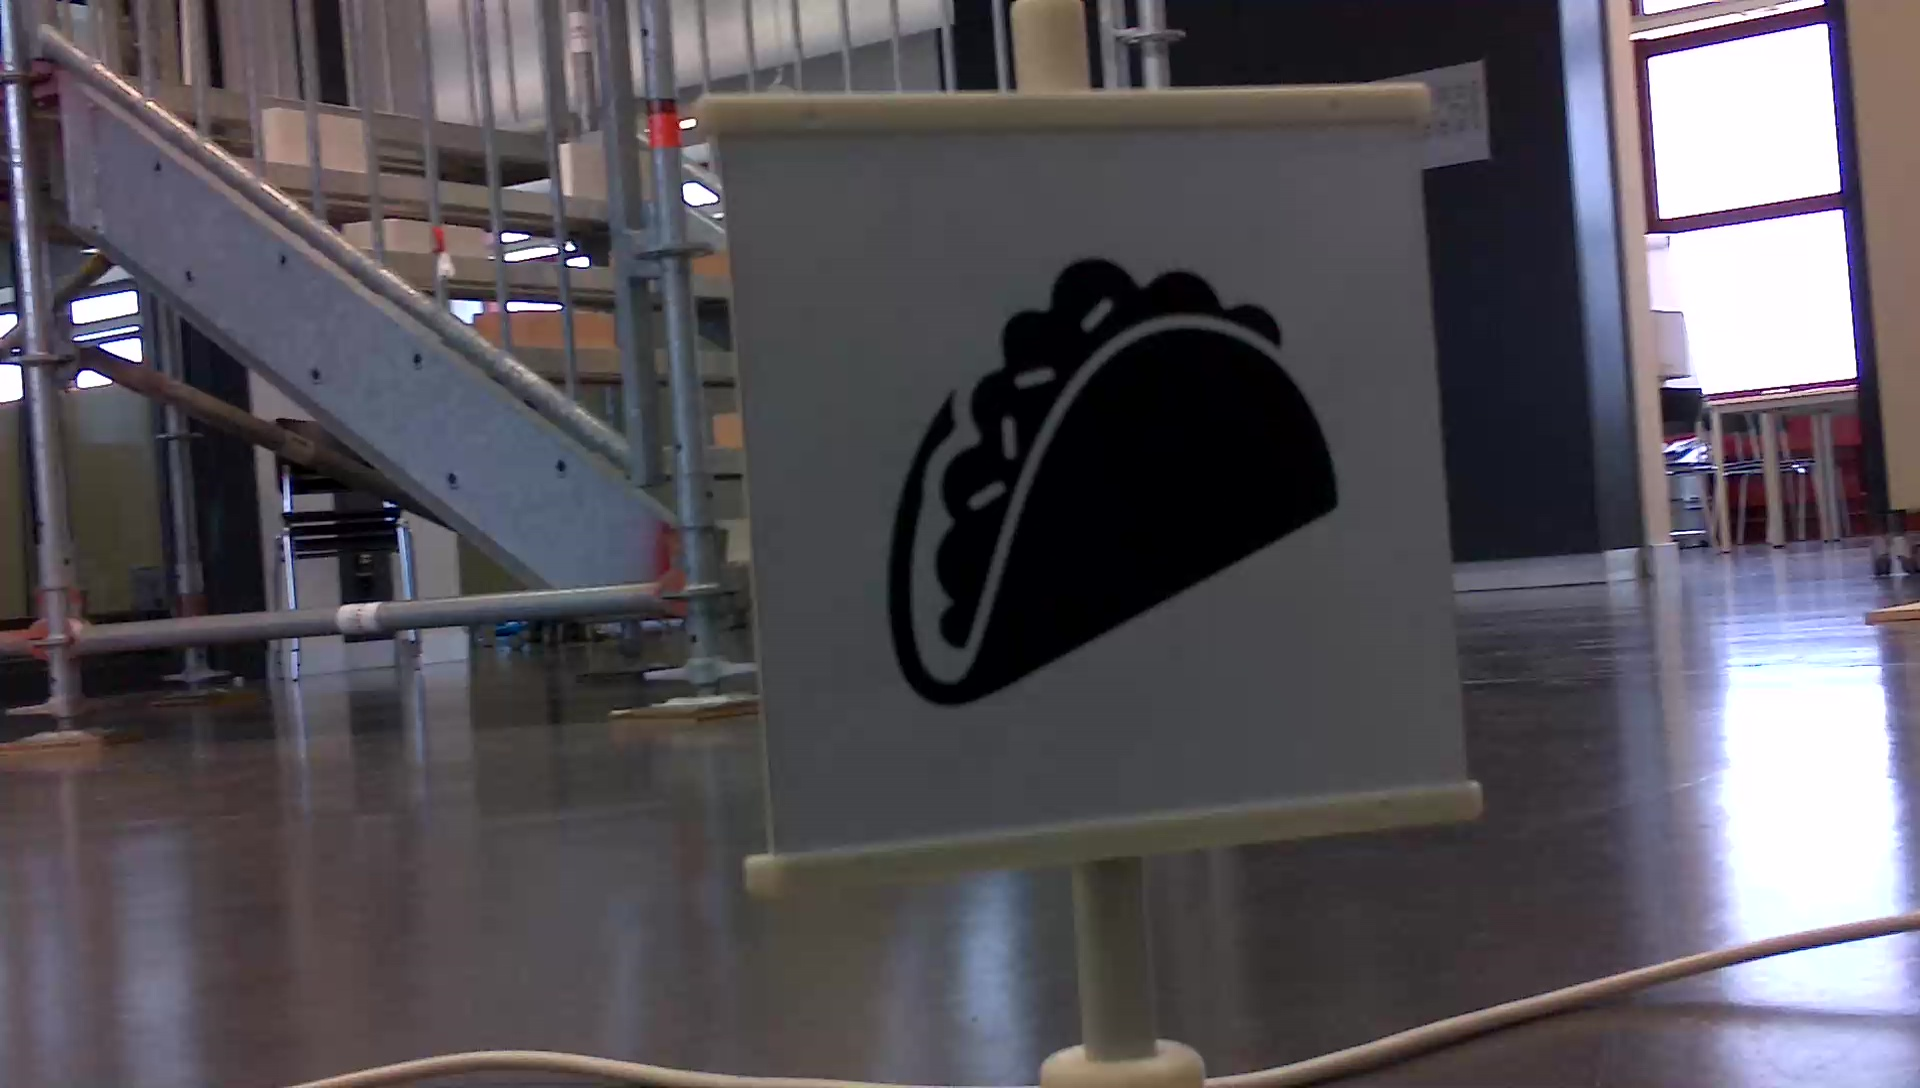taco: (858, 248, 1360, 719)
